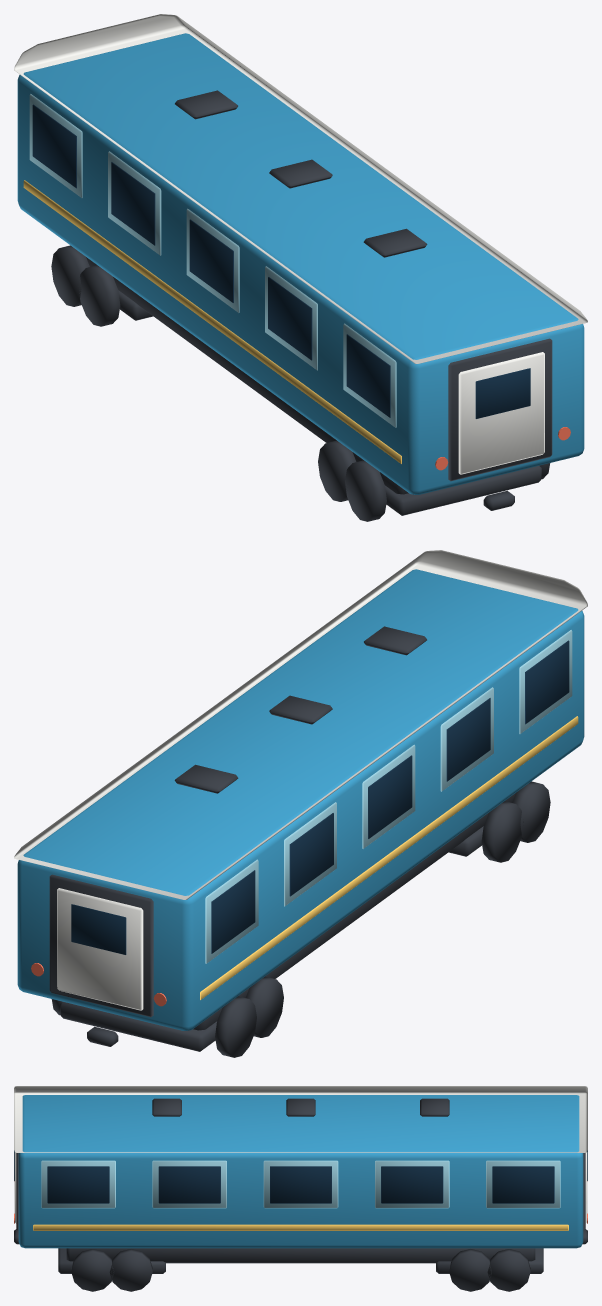
The model's file is car-proto.glb.
3 renders of one model, top to bottom at view 1: azimuth 30°, elevation 25°; view 2: azimuth 150°, elevation 25°; view 3: azimuth 270°, elevation 25°, orthographic. The views are drawn at different scales.
Parts seen in each view (by area): view 1: car-proto; view 2: car-proto; view 3: car-proto.
Boxes of the visible parts, x1,y1,x2,y2 form: car-proto: [14, 14, 587, 521]; car-proto: [14, 550, 587, 1057]; car-proto: [14, 1086, 587, 1291].
Size of the model in its own units: 3.07 by 3.6 by 12.
